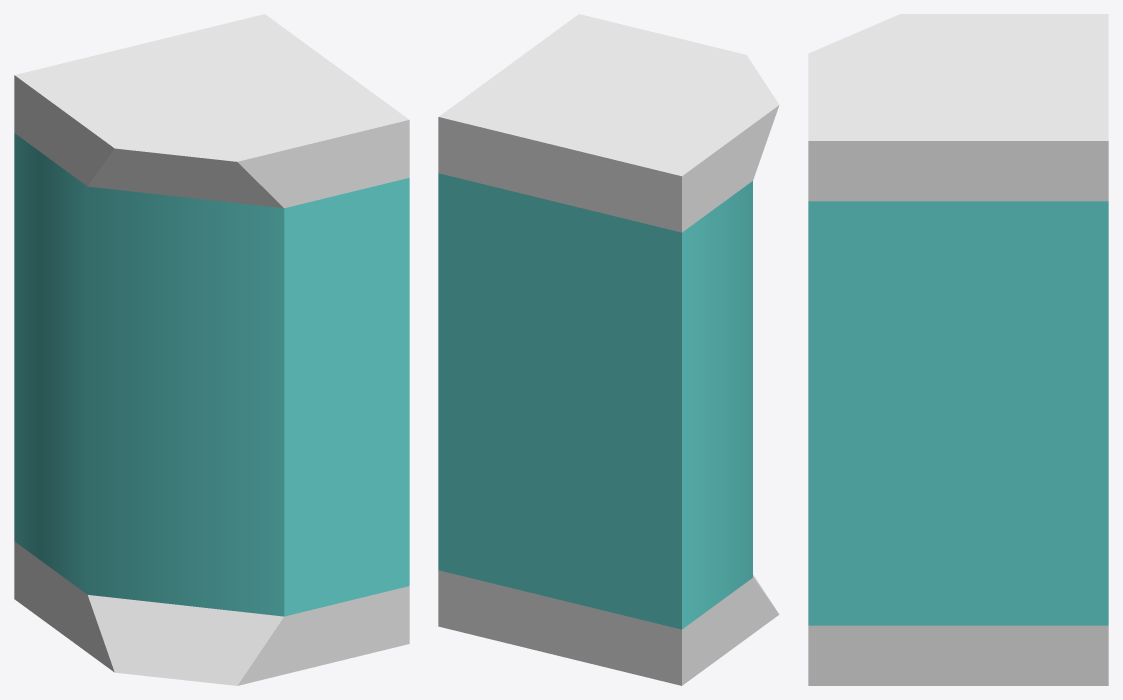
Rendered from WallClosedTurn.fbx.
3 renders of one model, left to right at view 1: azimuth 30°, elevation 25°; view 2: azimuth 150°, elevation 25°; view 3: azimuth 270°, elevation 25°, orthographic. The views are drawn at different scales.
Parts seen in each view (by area): view 1: ClosedTurn; view 2: ClosedTurn; view 3: ClosedTurn.
Part boxes in pixels (x1,y1,x2,y2): ClosedTurn: (14,14,409,685); ClosedTurn: (438,14,779,685); ClosedTurn: (808,14,1108,685).
Bounding box in the file's own units: 78.75 × 157 × 78.74.
